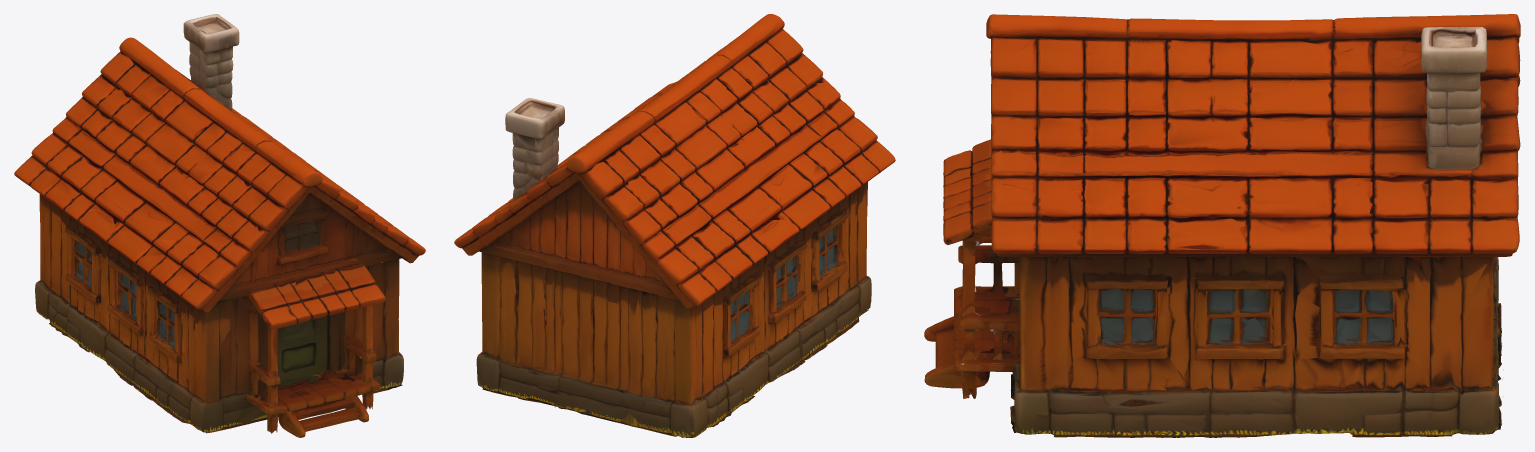
Rendered from farm_house_basic_shaded.high_fidelity.glb.
3 renders of one model, left to right at view 1: azimuth 30°, elevation 25°; view 2: azimuth 150°, elevation 25°; view 3: azimuth 270°, elevation 25°, orthographic. The views are drawn at different scales.
Parts seen in each view (by area): view 1: model; view 2: model; view 3: model.
Part boxes in pixels (<box>): model: <box>14,14,425,437</box>; model: <box>454,14,895,437</box>; model: <box>924,14,1520,437</box>.
Bounding box in the file's own units: 1.14 × 1.22 × 1.78.
Materials: 1 (1 with a texture image).
